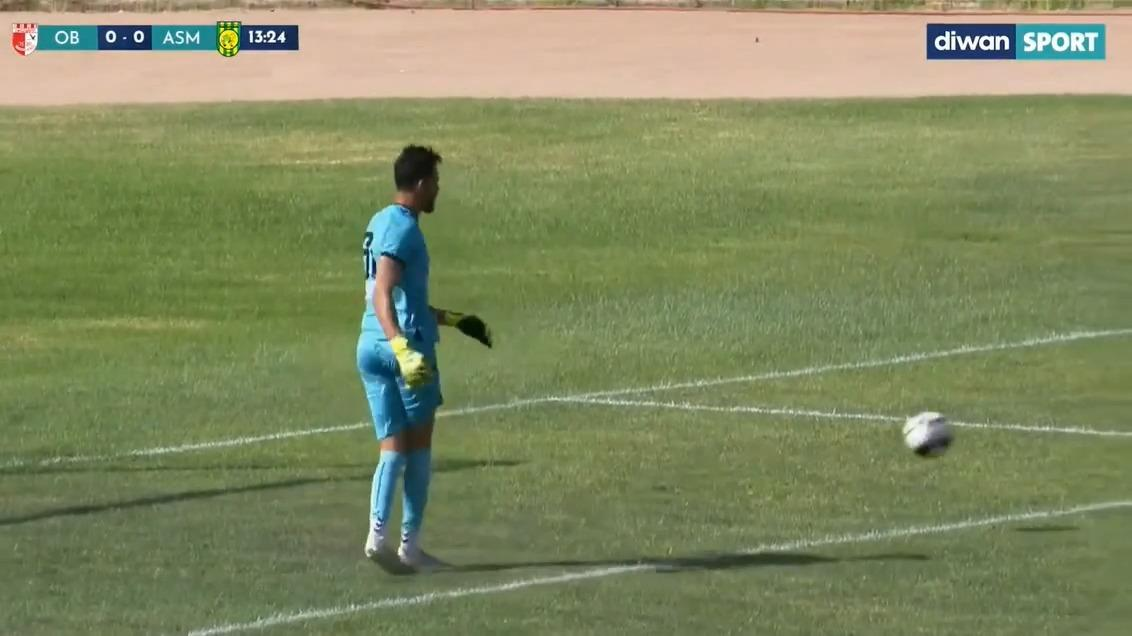ball: (866, 388, 989, 485)
goalkeeper: (301, 91, 509, 577)
